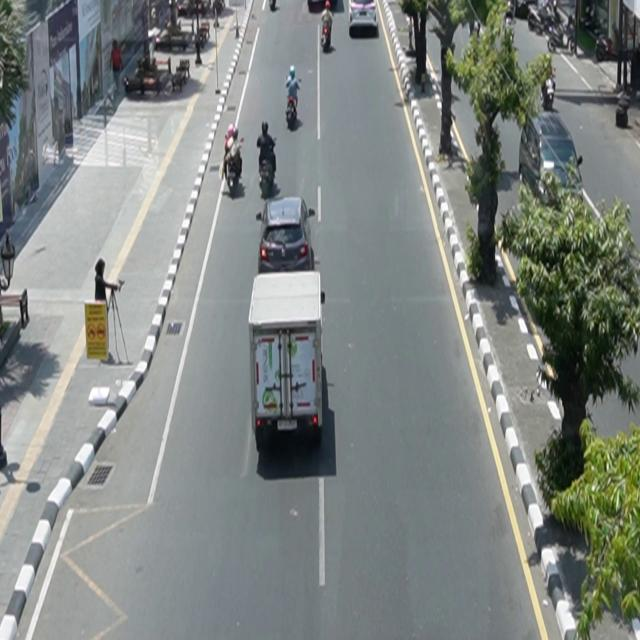car: (519, 109, 584, 208), (257, 196, 316, 274), (349, 1, 378, 28)
truck: (249, 271, 326, 451)
